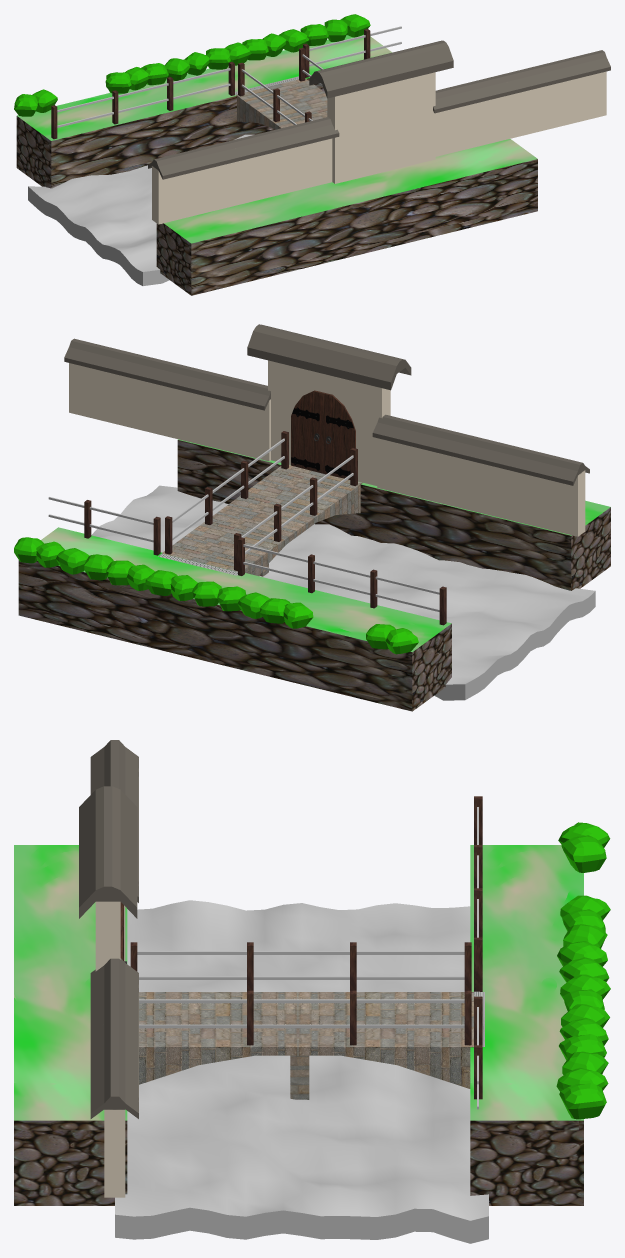
File: kikyou_3rdmap.FBX
The picture shows the model from 3 angles, top to bottom: view 1: azimuth 30°, elevation 25°; view 2: azimuth 150°, elevation 25°; view 3: azimuth 270°, elevation 25°; orthographic projection. The views are drawn at different scales.
Parts seen in each view (by area): view 1: Box030, Box005, hei003, hei001, hei002, Box032, hasi001, Box019, Box022, kusa013, kusa004, kusa008 (+10 smaller); view 2: Box005, Box032, Box030, hei001, hei002, hei003, hasi001, Box001, Box002, kusa015, Box019, kusa005 (+13 smaller); view 3: Box032, Box005, Box030, hasi001, hei002, hei003, hei001, Box012, Box015, kusa007, kusa014, Box011 (+12 smaller).
Part boxes in pixels (bbox=[...]): Box030: bbox=[156, 139, 537, 295]; Box005: bbox=[16, 34, 392, 188]; hei003: bbox=[309, 40, 453, 183]; hei001: bbox=[148, 117, 339, 224]; hei002: bbox=[433, 50, 610, 156]; Box032: bbox=[28, 134, 254, 285]; hasi001: bbox=[236, 78, 327, 129]; Box019: bbox=[57, 68, 230, 112]; Box022: bbox=[57, 83, 230, 127]; kusa013: bbox=[105, 72, 131, 93]; kusa004: bbox=[279, 29, 308, 52]; kusa008: bbox=[206, 48, 230, 69]; Box005: bbox=[18, 527, 451, 711]; Box032: bbox=[91, 485, 595, 700]; Box030: bbox=[177, 439, 610, 590]; hei001: bbox=[372, 414, 589, 536]; hei002: bbox=[64, 338, 270, 461]; hei003: bbox=[247, 324, 411, 485]; hasi001: bbox=[162, 465, 362, 575]; Box001: bbox=[291, 390, 323, 473]; Box002: bbox=[322, 392, 355, 479]; kusa015: bbox=[385, 628, 418, 654]; Box019: bbox=[243, 544, 439, 594]; kusa005: bbox=[56, 548, 89, 574]; Box032: bbox=[115, 900, 488, 1243]; Box005: bbox=[470, 845, 583, 1205]; Box030: bbox=[14, 845, 127, 1205]; hasi001: bbox=[139, 992, 473, 1088]; hei002: bbox=[90, 958, 138, 1197]; hei003: bbox=[79, 786, 137, 971]; hei001: bbox=[90, 740, 138, 961]; Box012: bbox=[139, 999, 464, 1003]; Box015: bbox=[139, 1024, 464, 1028]; kusa007: bbox=[559, 1083, 606, 1119]; kusa014: bbox=[561, 835, 606, 872]; Box011: bbox=[137, 951, 464, 954].
Size of the model in its own units: 1942 by 717 by 1337.
